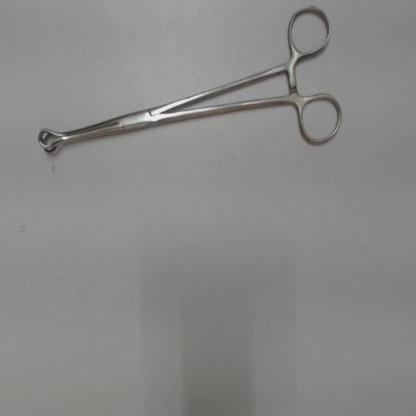8 Babcock Tissue Forceps: (31, 1, 346, 164)
